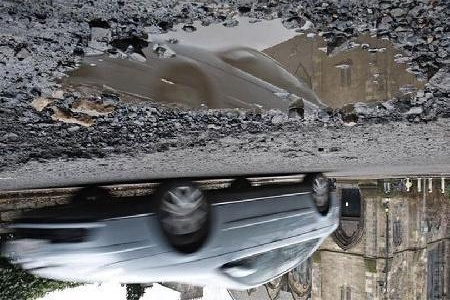pothole: (43, 11, 444, 142)
